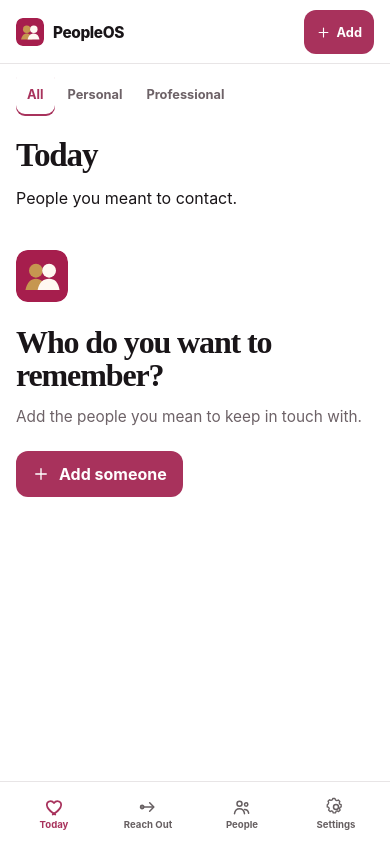
it: PeopleOS shell › navigates to the concise Reach Out empty state
Step 1. Click the link "Reach Out" → (148, 814), box top-left (124, 797), bottom-right (172, 830)
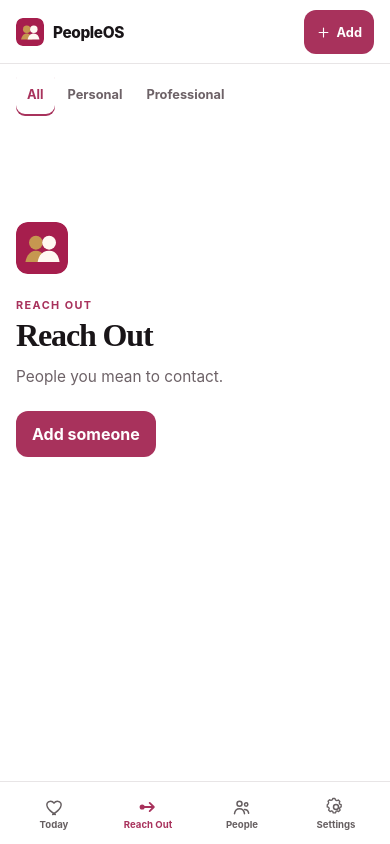
expect the heading "Reach Out" is shown: met, box top-left (16, 316), bottom-right (153, 352)
expect the text "People you mean to contact." is shown: met, box top-left (16, 367), bottom-right (223, 386)
